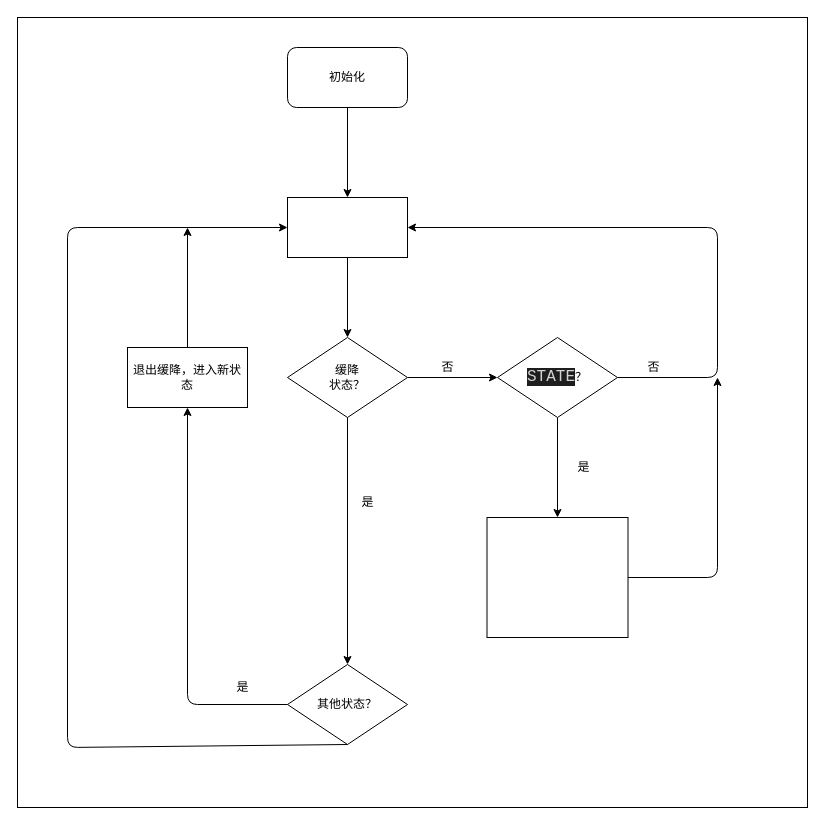
Image size: 825x825. Some labels were removed from this diagram. Each missing label, with the box of its shape:
获取温度: (286, 196, 408, 258)
进入缓降，温度大于 TEMP1 度，如果档位是 GEAR1 档则烟机开 GEAR2 档，小于 TEMP1 度，开 GEAR3 档: (486, 516, 628, 638)
